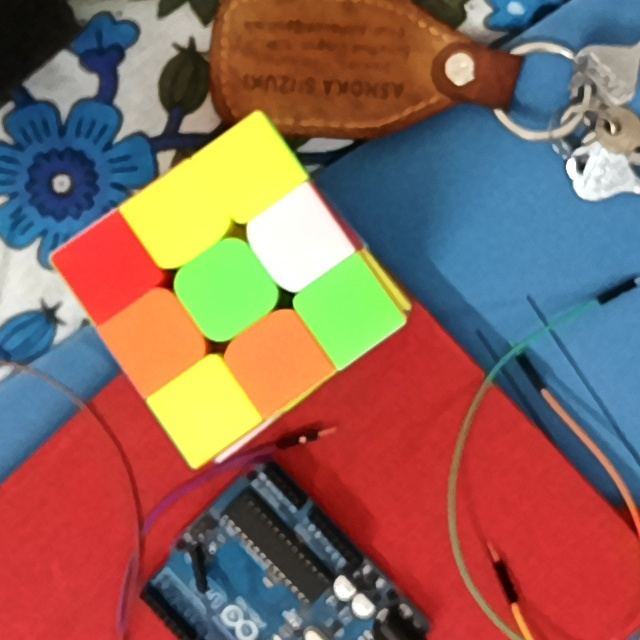tile: (195, 260, 255, 320), (76, 238, 137, 297), (244, 331, 307, 388), (218, 139, 279, 195), (125, 312, 183, 370), (266, 212, 327, 267), (149, 190, 210, 244), (322, 281, 378, 339), (177, 384, 232, 435)
